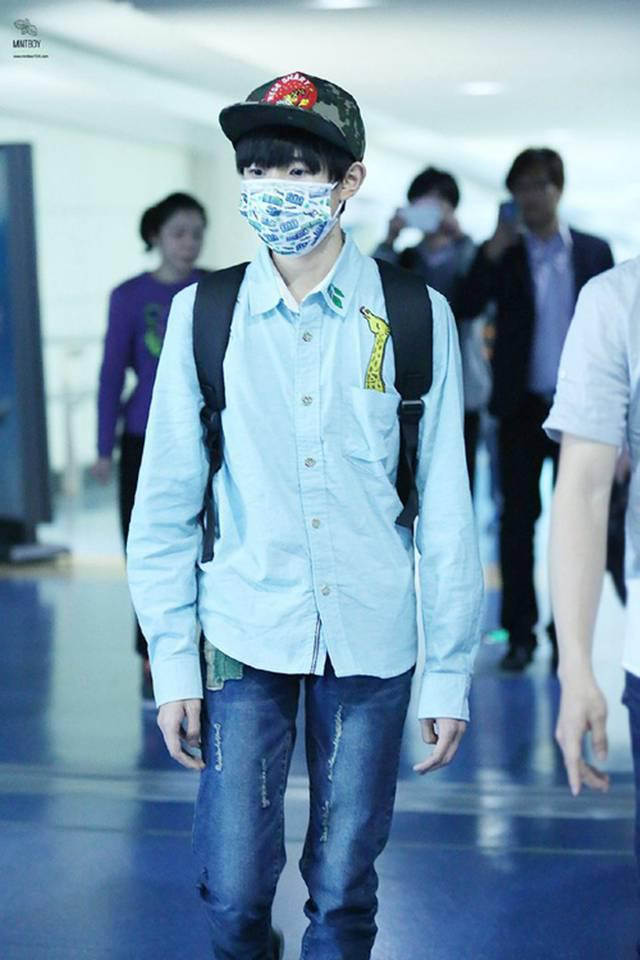NONE: (169, 224, 209, 271)
OK: (237, 151, 339, 253)
